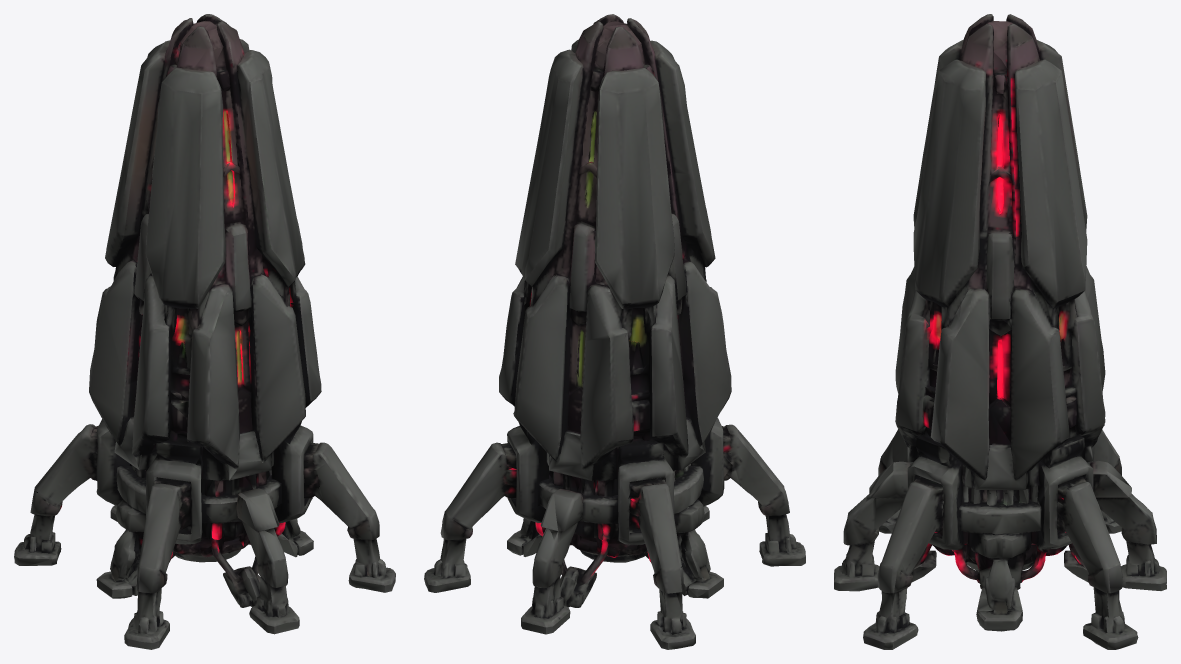
Rendered from 06_husk_beacon_closed.fbx.
3 renders of one model, left to right at view 1: azimuth 30°, elevation 25°; view 2: azimuth 150°, elevation 25°; view 3: azimuth 270°, elevation 25°, orthographic. The views are drawn at different scales.
Parts seen in each view (by area): view 1: 06_husk_beacon_closed; view 2: 06_husk_beacon_closed; view 3: 06_husk_beacon_closed.
Boxes of the visible parts, left/top/right/bottom form: 06_husk_beacon_closed: left=14, top=14, right=395, bottom=649; 06_husk_beacon_closed: left=424, top=14, right=805, bottom=649; 06_husk_beacon_closed: left=834, top=14, right=1166, bottom=649.
Size of the model in its own units: 1.53 by 3 by 1.61.
Materials: 1 (1 with a texture image).
